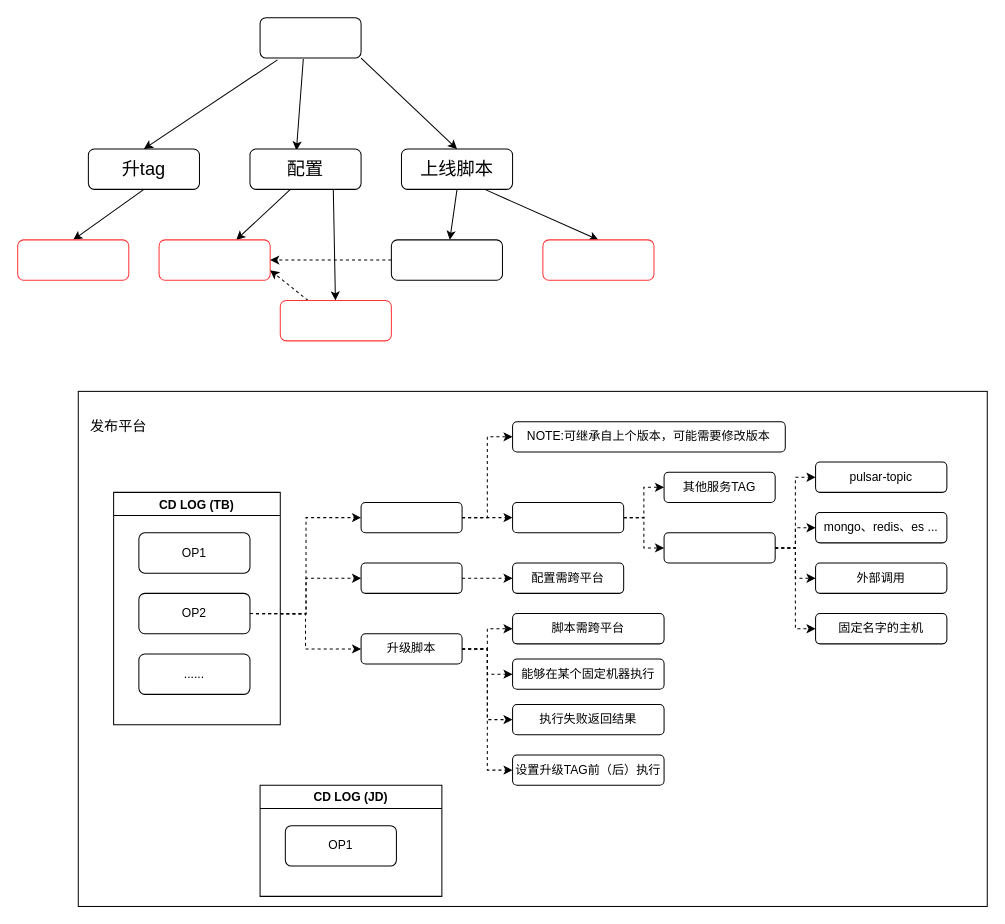
This 1005x924 diagram has some shape labels left out. Here are the shapes that lost their labels. From the top down, the centre of each, then its label:
At point (310, 37): "deploy升级".
At point (73, 259): "依赖管理".
At point (214, 259): "资源变量统一".
At point (446, 259): "数据修复、迁移".
At point (598, 259): "闪电归档管理".
At point (335, 320): "平台兼容".
At point (411, 517): "依赖关系".
At point (568, 517): "可依赖类型".
At point (719, 547): "资源".
At point (411, 577): "镜像、配置".
